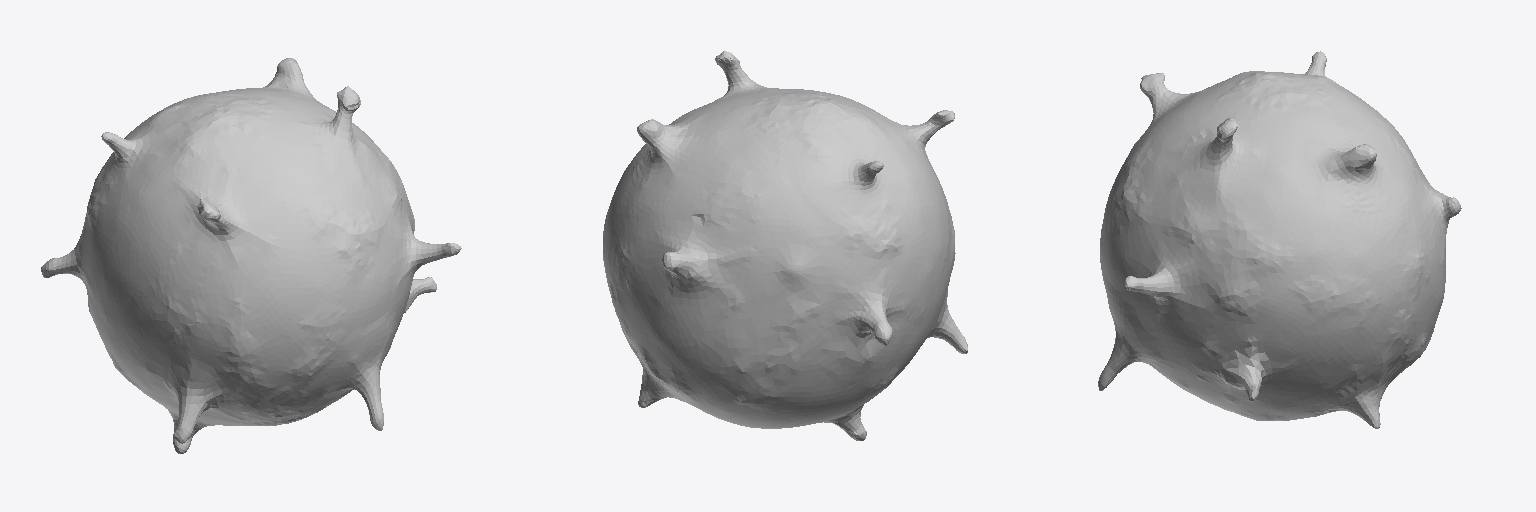
The model's file is inf2.obj.
3 renders of one model, left to right at view 1: azimuth 30°, elevation 25°; view 2: azimuth 150°, elevation 25°; view 3: azimuth 270°, elevation 25°, orthographic.
Size of the model in its own units: 0.582 by 0.5663 by 0.5454.